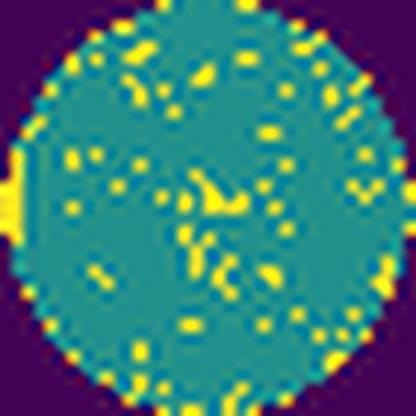Edge-Loc: (0, 138, 34, 250), (399, 178, 416, 212)
